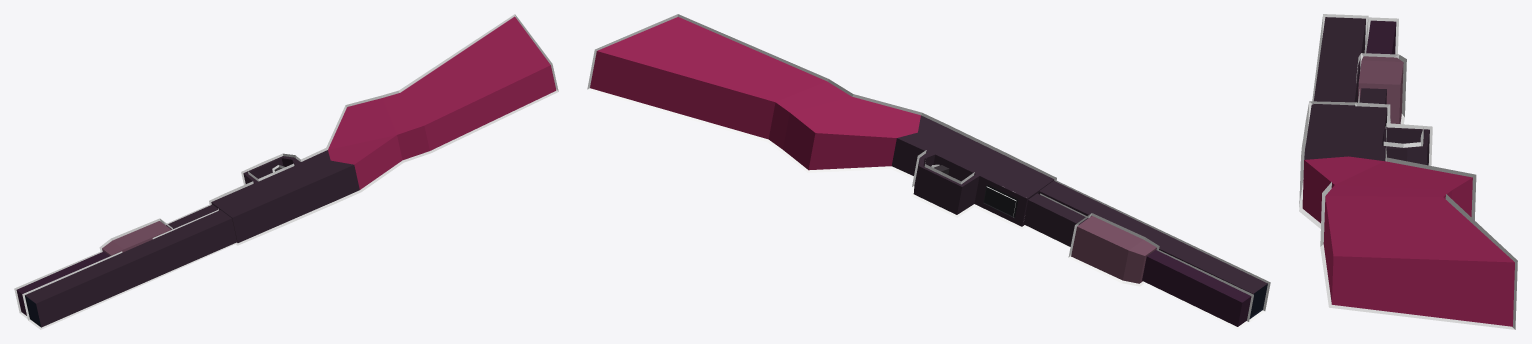
The model's file is ShotgunSeparate.gltf.
3 renders of one model, left to right at view 1: azimuth 30°, elevation 25°; view 2: azimuth 150°, elevation 25°; view 3: azimuth 270°, elevation 25°, orthographic. The views are drawn at different scales.
Visible parts, largest first — view 1: Shotgun; view 2: Shotgun; view 3: Shotgun.
Boxes of the visible parts, box(x1,y1,x2,y2) form: Shotgun: box(14, 14, 558, 329); Shotgun: box(587, 14, 1270, 329); Shotgun: box(1299, 14, 1517, 329).
Bounding box in the file's own units: 0.4714 × 0.119 × 0.0972.
2 materials, 1 textured.
